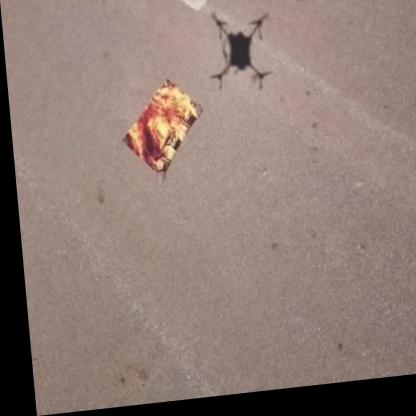fire-poster: (115, 78, 207, 192)
